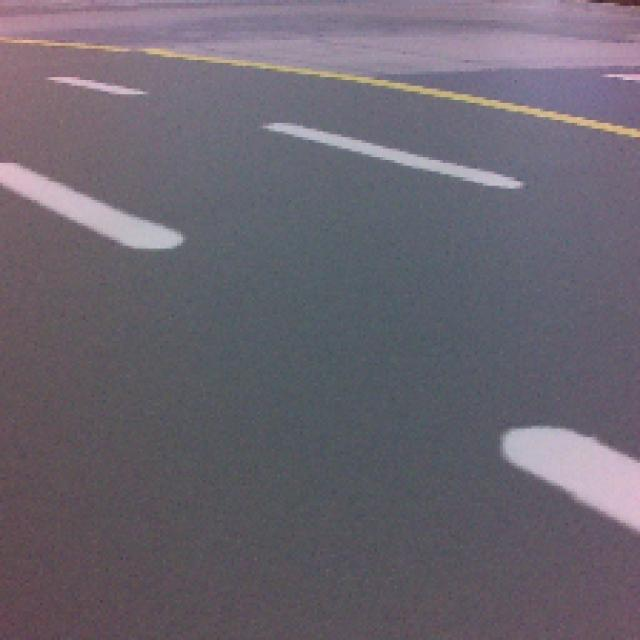Pedestrian crosswalk: (506, 430, 640, 542)
